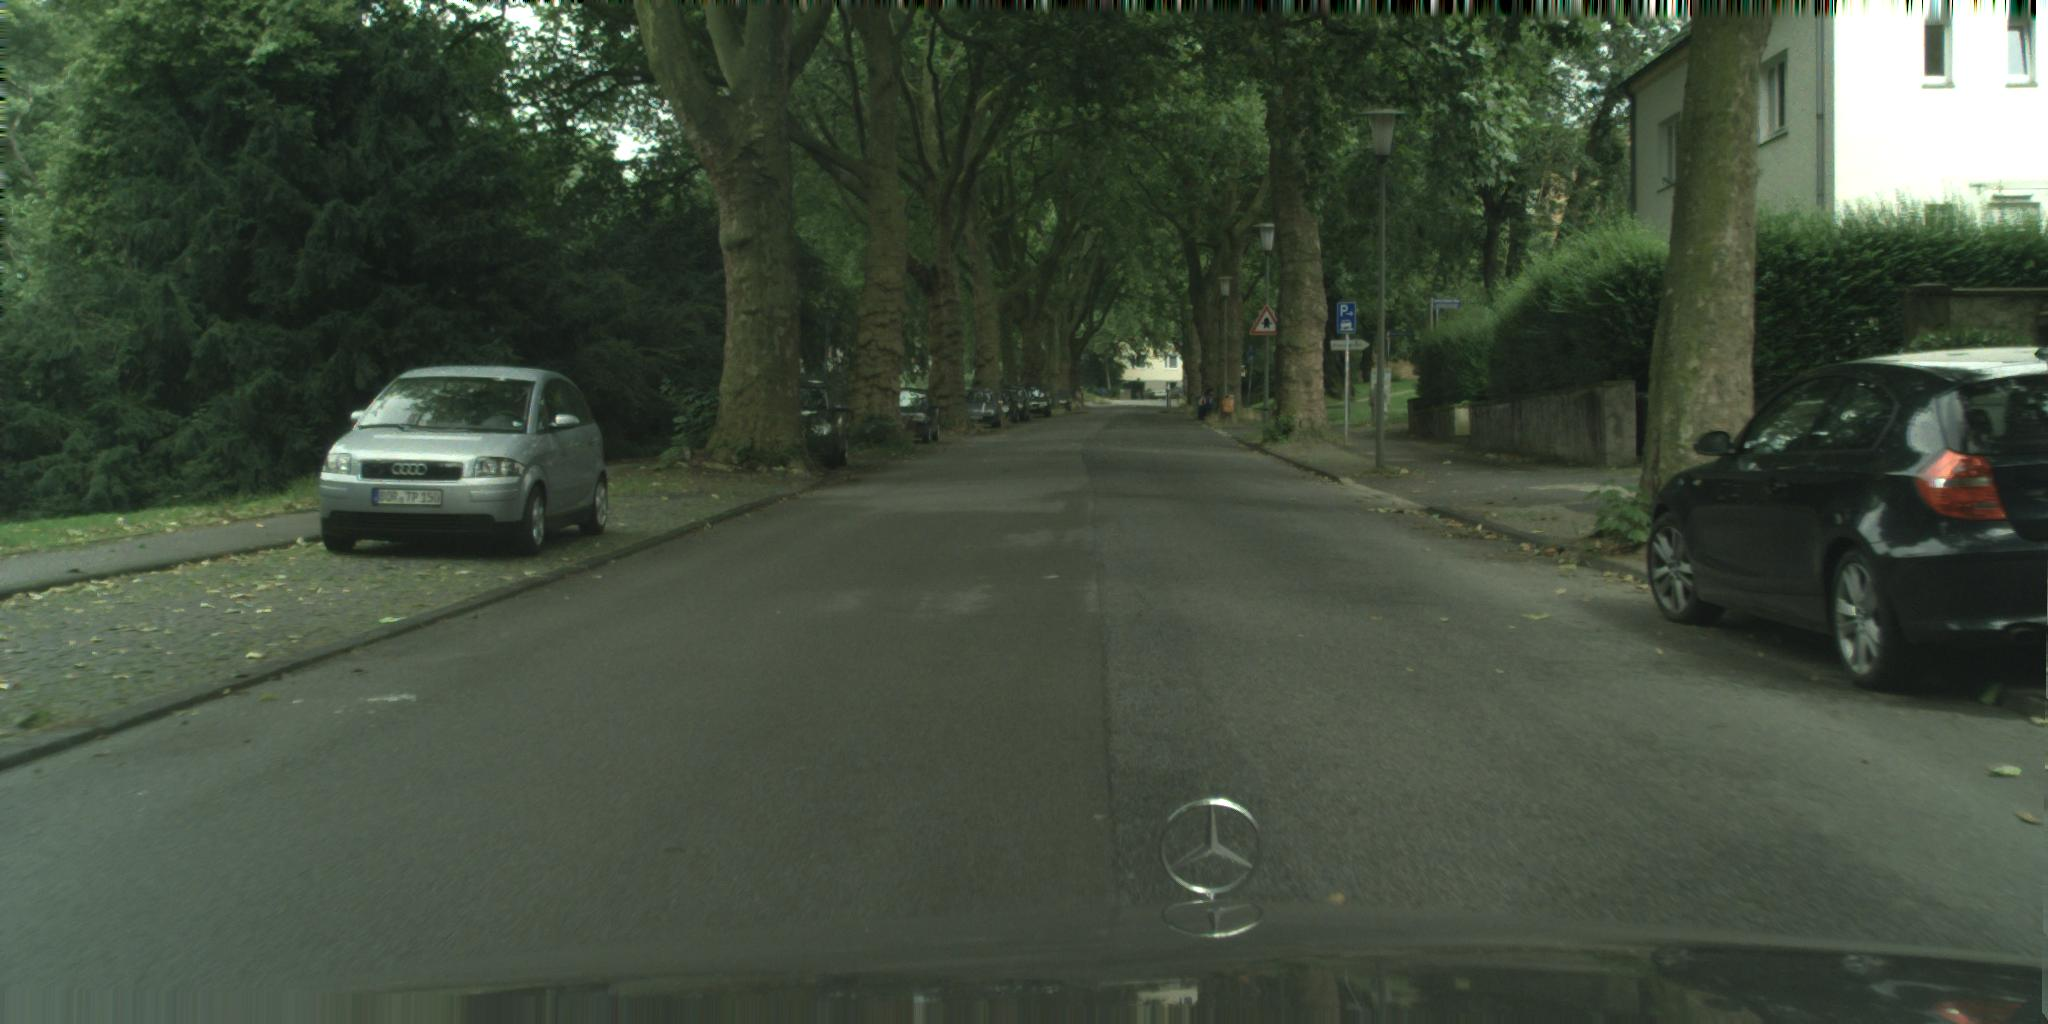car: (1644, 342, 2048, 701), (317, 363, 610, 558), (801, 375, 853, 470), (900, 387, 942, 445), (967, 388, 1004, 428), (997, 387, 1032, 422), (1017, 387, 1053, 419), (991, 391, 1021, 424), (1196, 388, 1215, 422), (1059, 388, 1075, 413), (1151, 391, 1169, 400)
